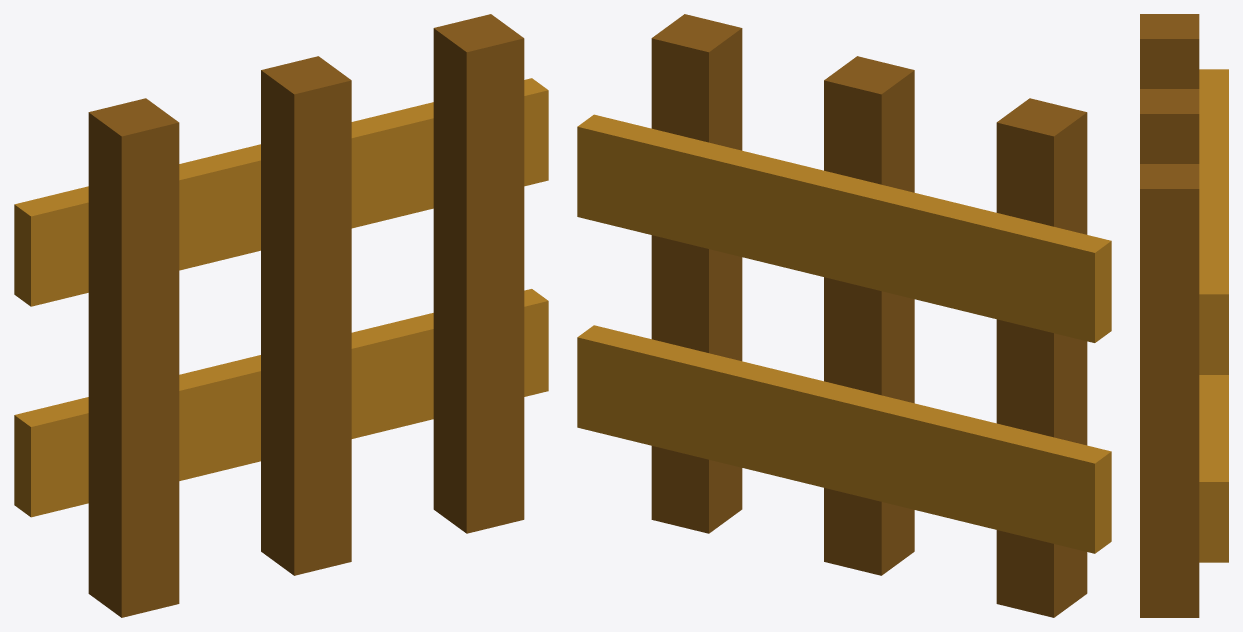
File: TallFence_Connection.fbx
The picture shows the model from 3 angles, left to right: view 1: azimuth 30°, elevation 25°; view 2: azimuth 150°, elevation 25°; view 3: azimuth 270°, elevation 25°; orthographic projection. The views are drawn at different scales.
Parts seen in each view (by area): view 1: Matrix_1_part_2; view 2: Matrix_1_part_2; view 3: Matrix_1_part_2.
Part boxes in pixels (left/top/right/bottom): Matrix_1_part_2: left=14, top=14, right=548, bottom=617; Matrix_1_part_2: left=577, top=14, right=1111, bottom=617; Matrix_1_part_2: left=1140, top=14, right=1228, bottom=617.
Size of the model in its own units: 18 by 16 by 3.
1 material, 1 textured.
